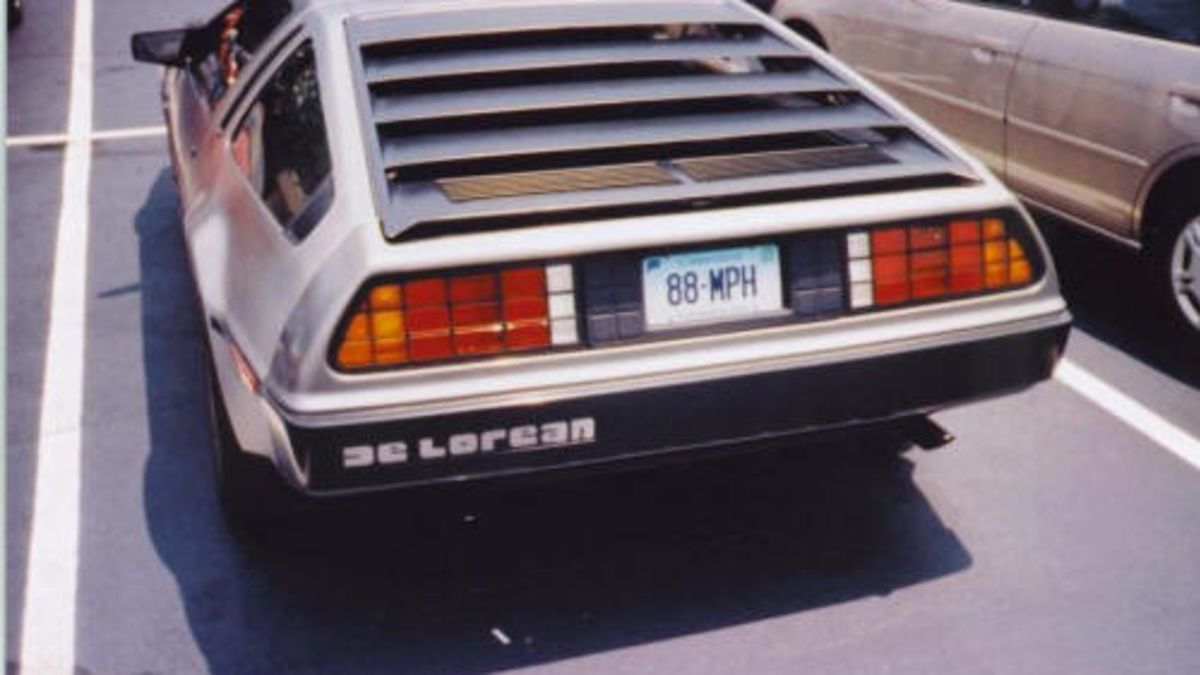license plate: (641, 251, 798, 333)
